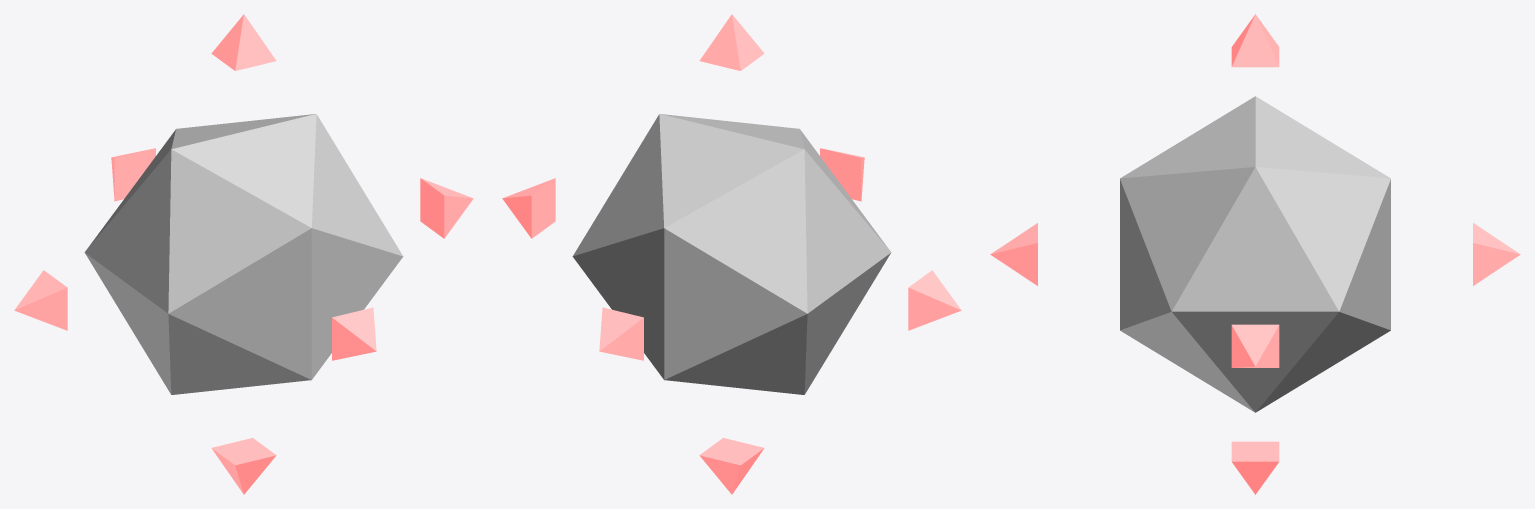
The model's file is enemy.fbx.
3 renders of one model, left to right at view 1: azimuth 30°, elevation 25°; view 2: azimuth 150°, elevation 25°; view 3: azimuth 270°, elevation 25°, orthographic.
Parts seen in each view (by area): view 1: Platonic_3, Pyramid, Pyramid_3, Pyramid_2; view 2: Platonic_3, Pyramid, Pyramid_3, Pyramid_2; view 3: Platonic_3, Pyramid_3, Pyramid_2, Pyramid.
Part boxes in pixels (x1,y1,x2,y2): Platonic_3: (84,114,403,394); Pyramid: (14,178,473,330); Pyramid_3: (211,14,276,494); Pyramid_2: (111,148,376,360); Platonic_3: (572,114,891,394); Pyramid: (502,178,961,330); Pyramid_3: (699,14,764,494); Pyramid_2: (599,148,864,360); Platonic_3: (1120,96,1390,412); Pyramid_3: (1231,14,1279,494); Pyramid_2: (990,223,1520,285); Pyramid: (1231,324,1279,367).
Bounding box in the file's own units: 333 × 333 × 333.
